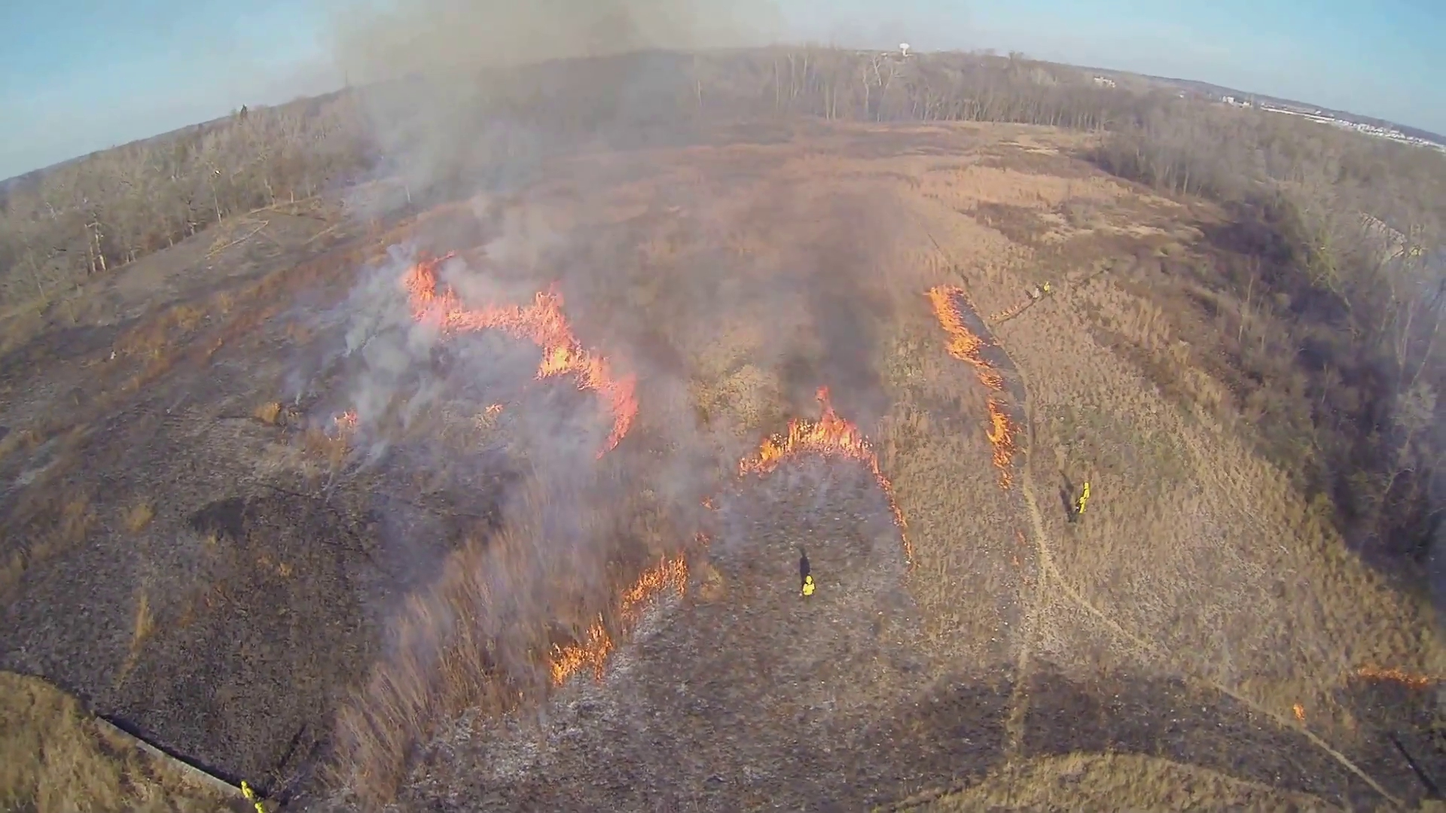forest_fire: (401, 253, 638, 458), (738, 386, 915, 567), (926, 285, 1017, 488), (618, 554, 688, 626), (548, 614, 615, 684)
